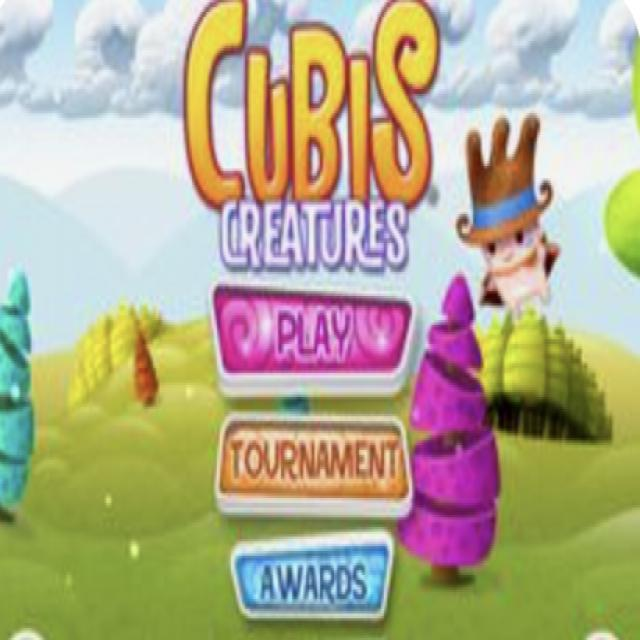Start-button: (219, 285, 404, 381)
